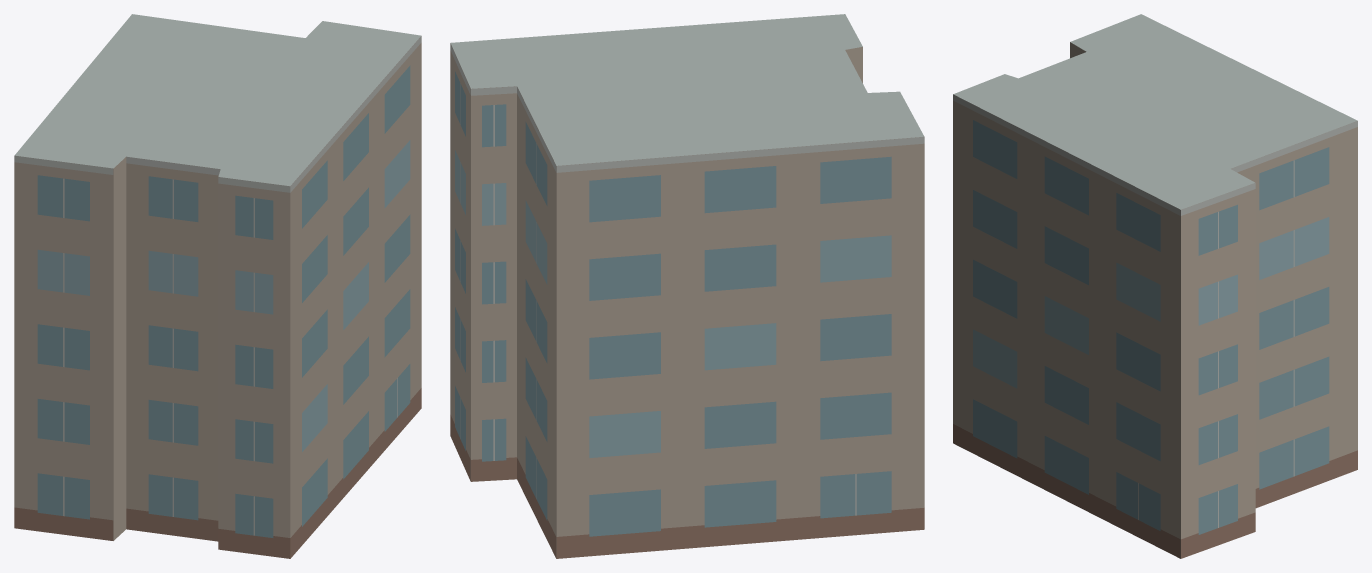
The model's file is survey-upis-32882470.glb.
3 renders of one model, left to right at view 1: azimuth 30°, elevation 25°; view 2: azimuth 150°, elevation 25°; view 3: azimuth 270°, elevation 25°, orthographic. The views are drawn at different scales.
Visible parts, largest first — view 1: survey-upis-32882470.tmp; view 2: survey-upis-32882470.tmp; view 3: survey-upis-32882470.tmp.
Part boxes in pixels (x1=…): survey-upis-32882470.tmp: x1=14, y1=14, x2=421, y2=558; survey-upis-32882470.tmp: x1=450, y1=14, x2=924, y2=558; survey-upis-32882470.tmp: x1=953, y1=14, x2=1357, y2=558.
Bounding box in the file's own units: 16.49 × 13.7 × 14.4.
